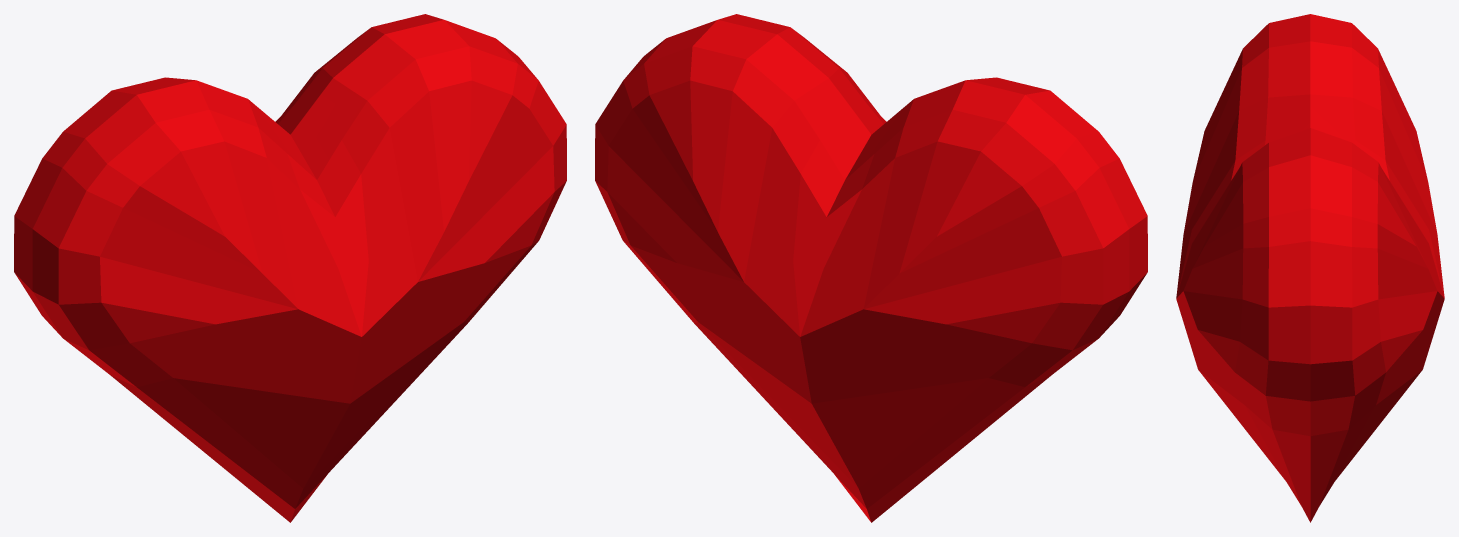
Rendered from Heart.fbx.
3 renders of one model, left to right at view 1: azimuth 30°, elevation 25°; view 2: azimuth 150°, elevation 25°; view 3: azimuth 270°, elevation 25°, orthographic. The views are drawn at different scales.
Parts seen in each view (by area): view 1: Cube; view 2: Cube; view 3: Cube.
Part boxes in pixels (x1,y1,x2,y2): Cube: (14, 14, 566, 522); Cube: (595, 14, 1147, 522); Cube: (1176, 14, 1444, 522).
Size of the model in its own units: 2.56 by 2.21 by 1.23.
